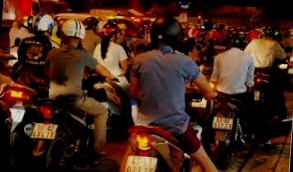Bien-so: (125, 154, 158, 172), (30, 123, 57, 139), (212, 116, 233, 130), (9, 108, 27, 124), (192, 97, 207, 107), (254, 90, 261, 101), (289, 68, 293, 74)
